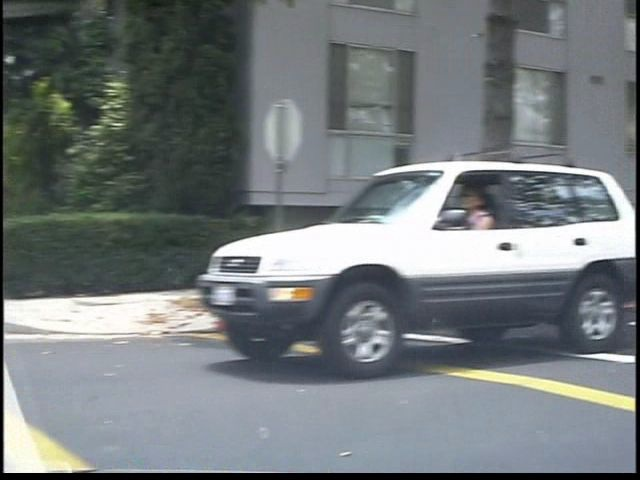person: (468, 174, 518, 356)
